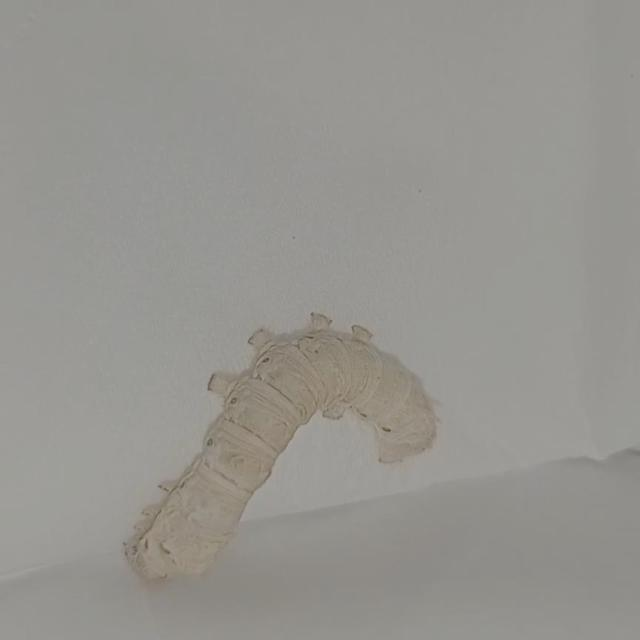Healthy: (92, 289, 483, 617)
